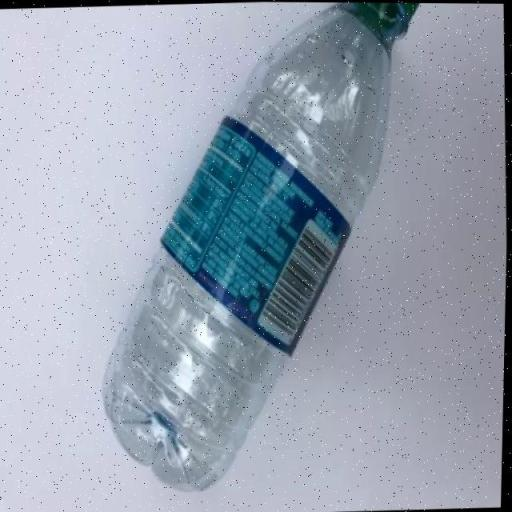plastic: (85, 0, 438, 499)
